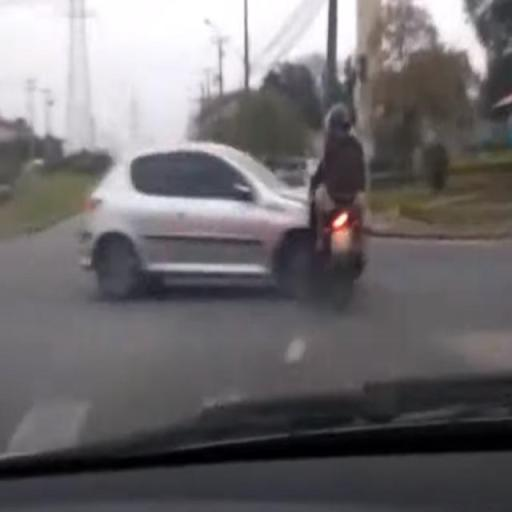Car: (82, 134, 344, 307)
Minor Accident: (74, 99, 367, 310)
Motor: (311, 102, 364, 306)
